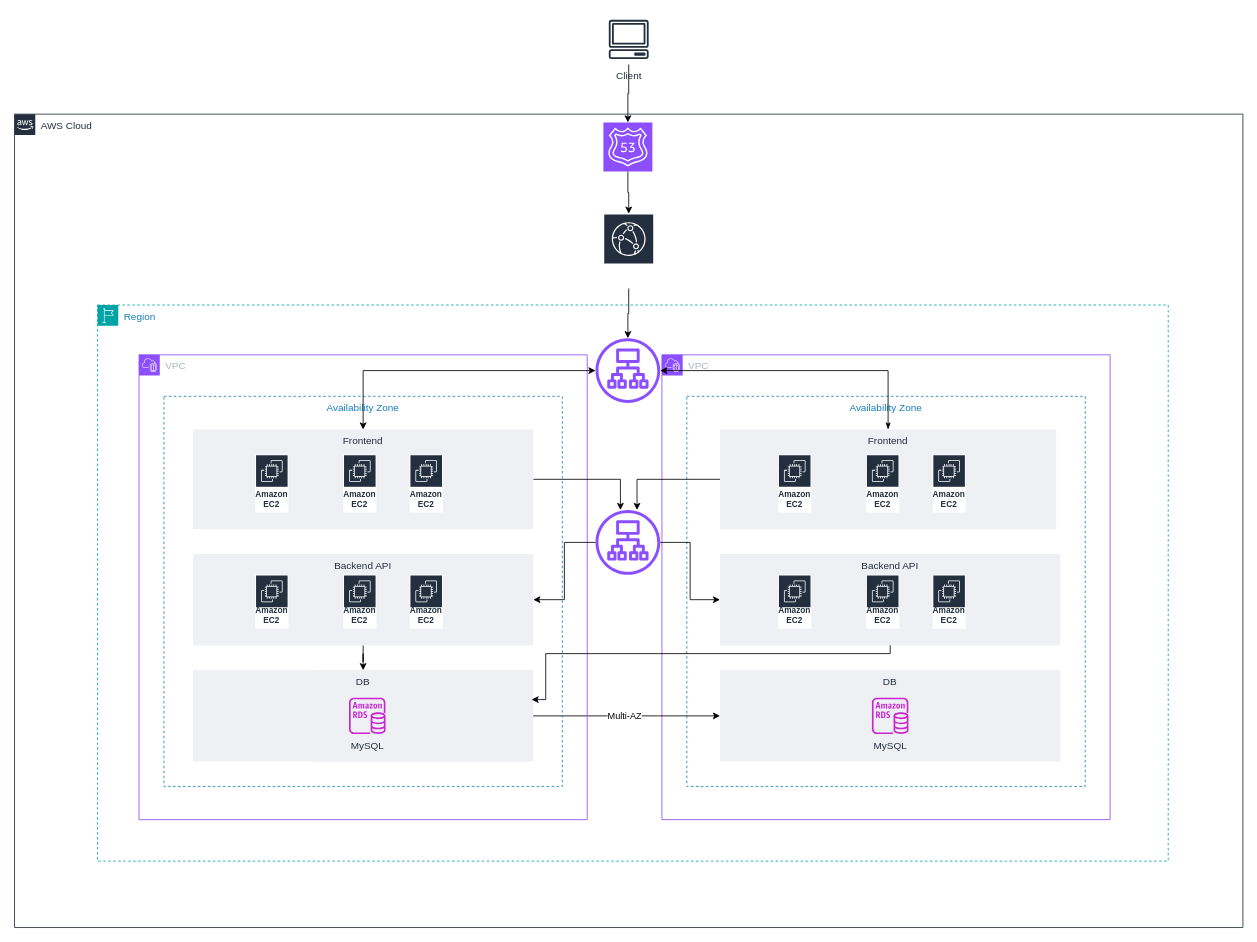
The diagram is 1257 pixels wide and 942 high, and some of its shapes have lost their labels. The shapes that lost their labels are listed below. From the top down, each one's centre as x and y in pixels, then its label:
point (627, 146): Route 53
point (628, 250): Amazon Cloudfront
point (627, 370): ALB Frontend
point (627, 542): ALB Backend API
